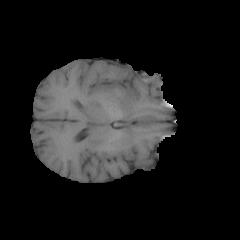glioma: (87, 67, 140, 115)
